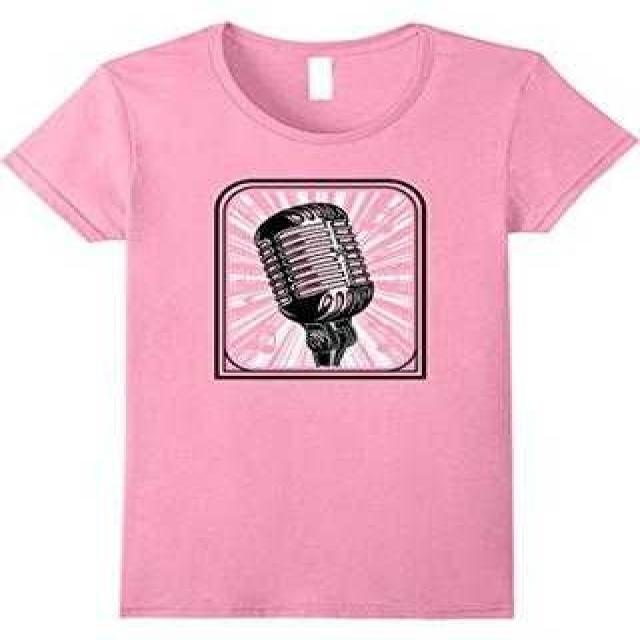microphone: (253, 202, 376, 367)
